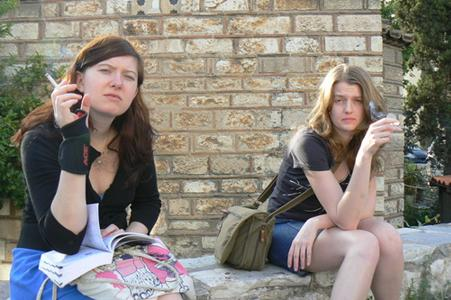person: (252, 63, 409, 300)
